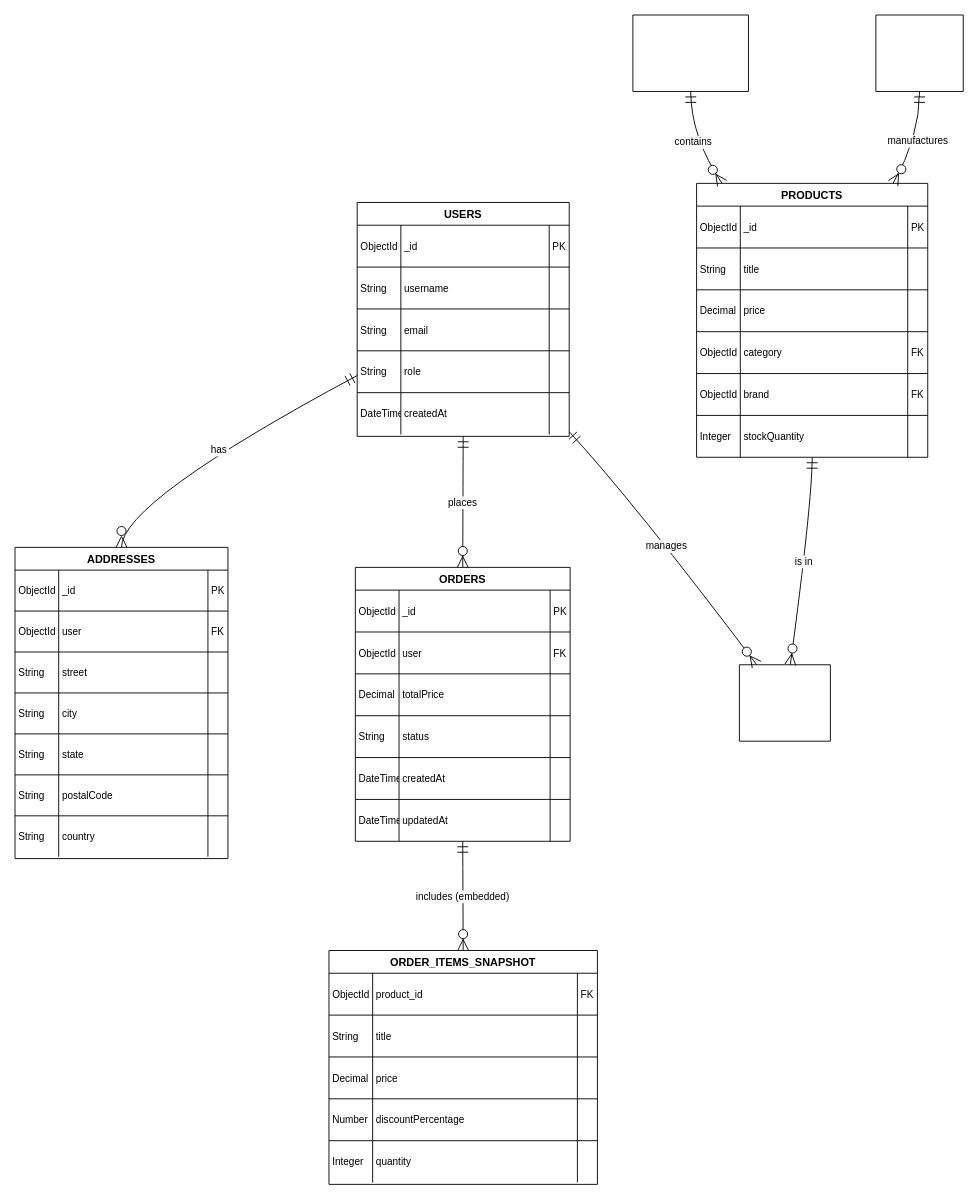
The diagram is 978 pixels wide and 1199 high, and some of its shapes have lost their labels. The shapes that lost their labels are listed below. From the top down, each one's centre as x and y in pixels, then its label:
At (690,52): "CATEGORIES".
At (919,52): "BRANDS".
At (784,702): "CARTS".
